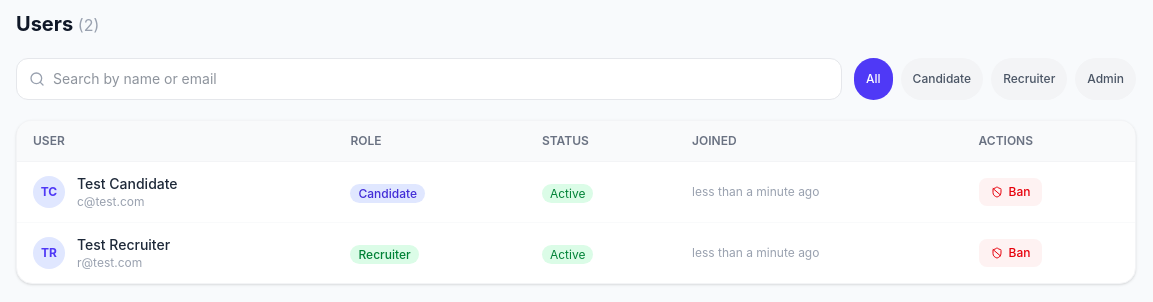
Test: AdminUsers — ban/unban › banning a user shows Unban button after state update
Step 1. Click the button "Ban" in the row of "TC" → (1010, 192), box [978,178,1042,206]
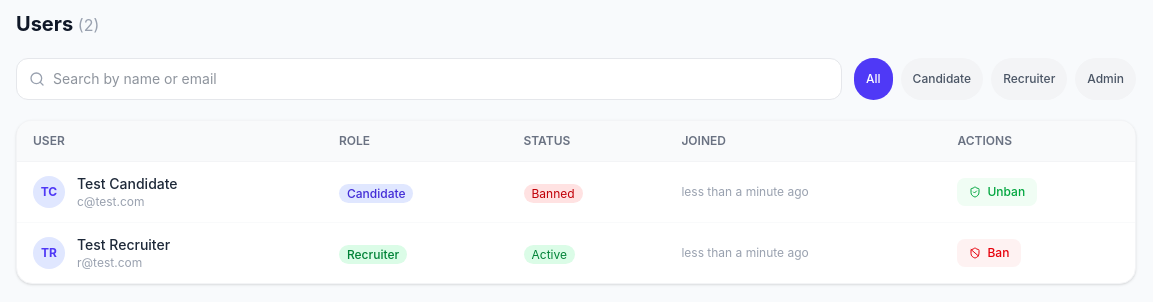
Expected: the button "Unban" is shown, [958,178,1037,206]
